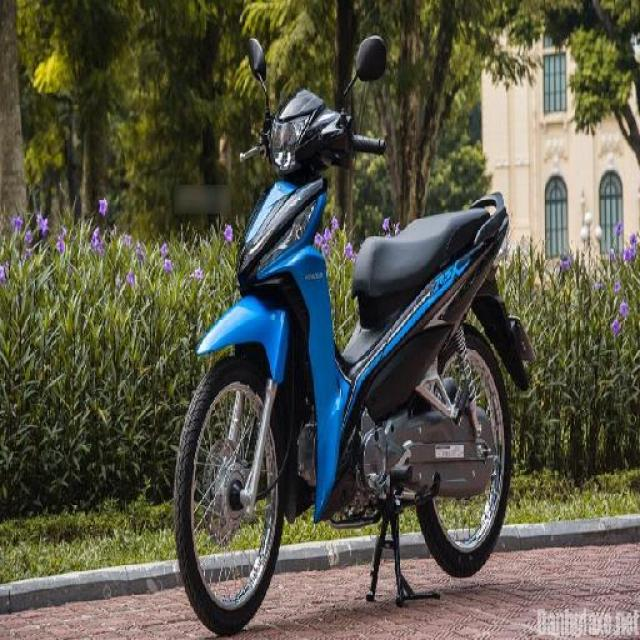All: (170, 84, 532, 634)
Head: (236, 91, 386, 173)
Tail: (459, 188, 518, 258)
